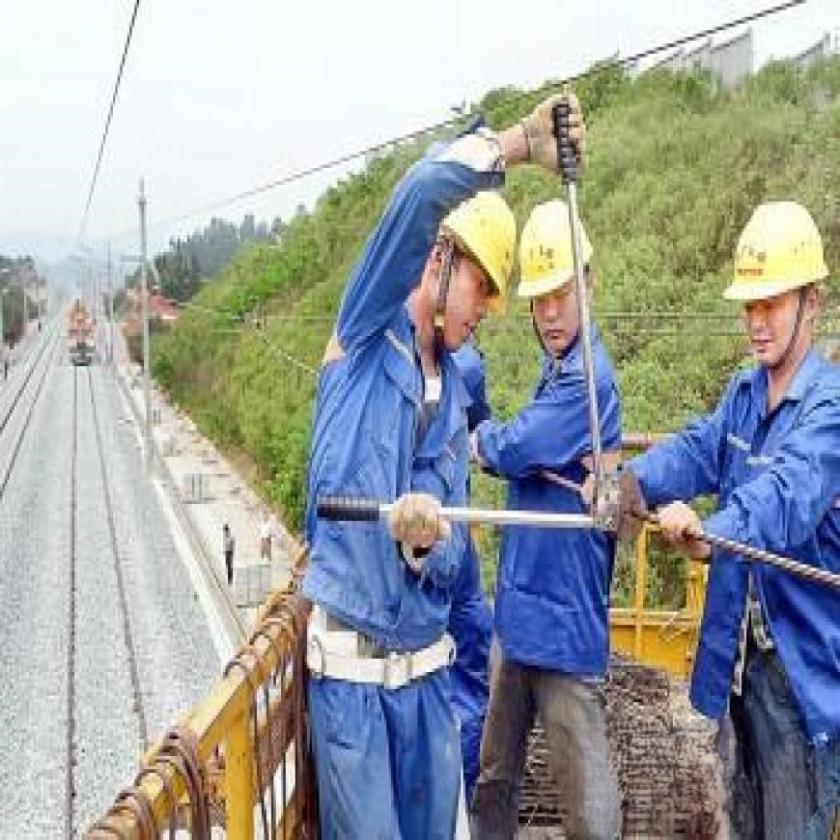Con_casco: (422, 189, 522, 378), (721, 200, 825, 376), (518, 196, 591, 346)
